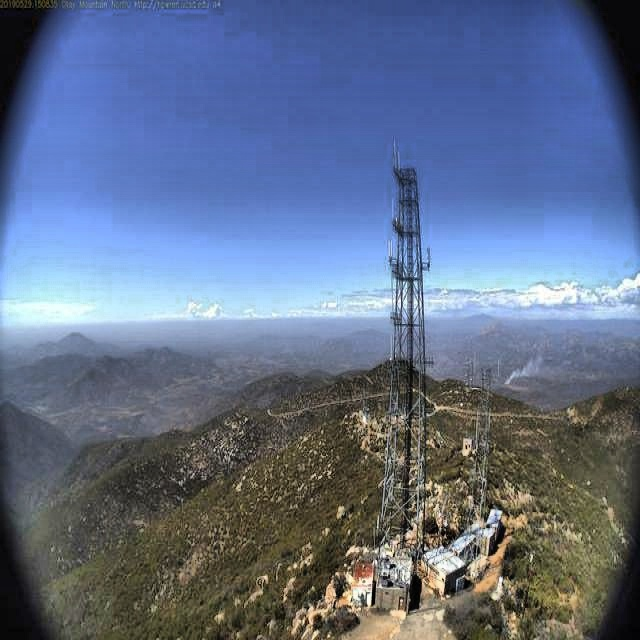smoke: (500, 341, 564, 392)
